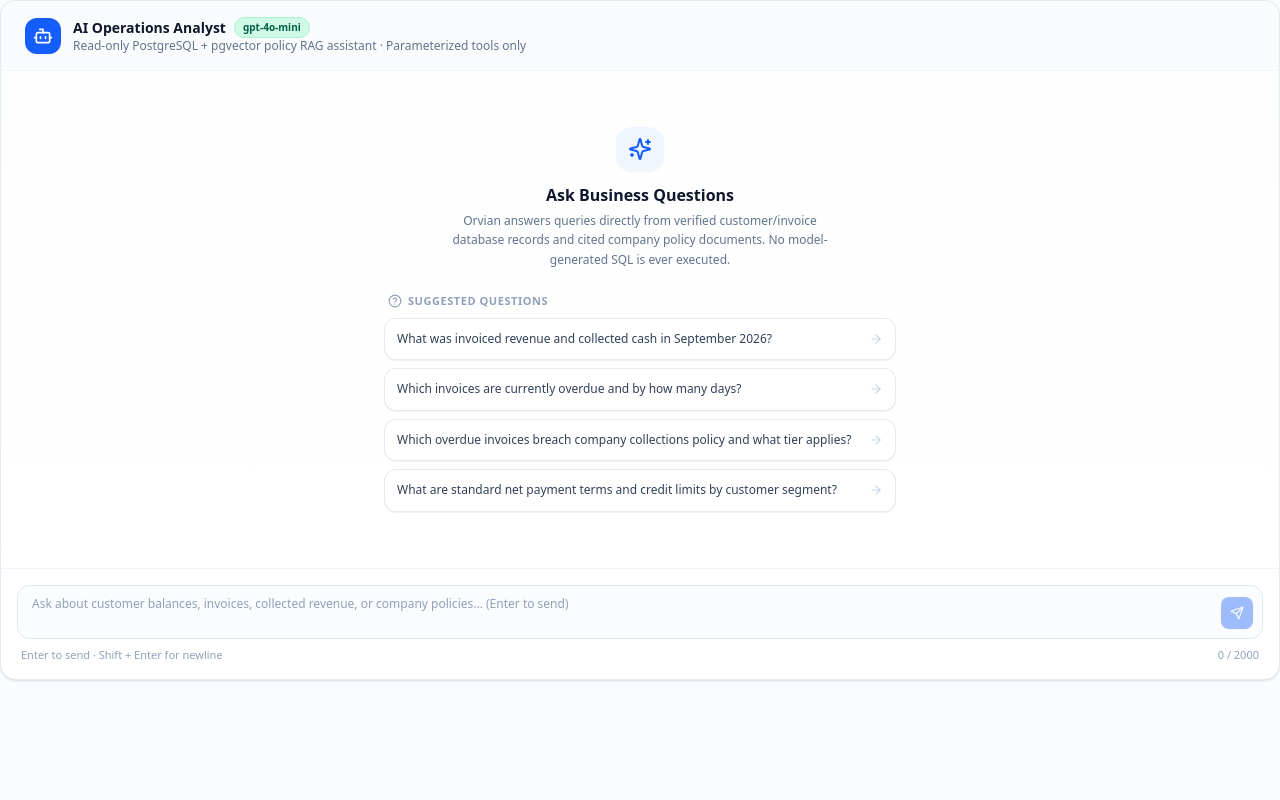
Scenario: ChatCard AI Operations Analyst › handles LLM not configured (503) error and displays helpful error banner
Replace the text in the text box with placeholder "Ask about customer balances" with "How much revenue?": (640, 612) [17, 584, 1263, 638]
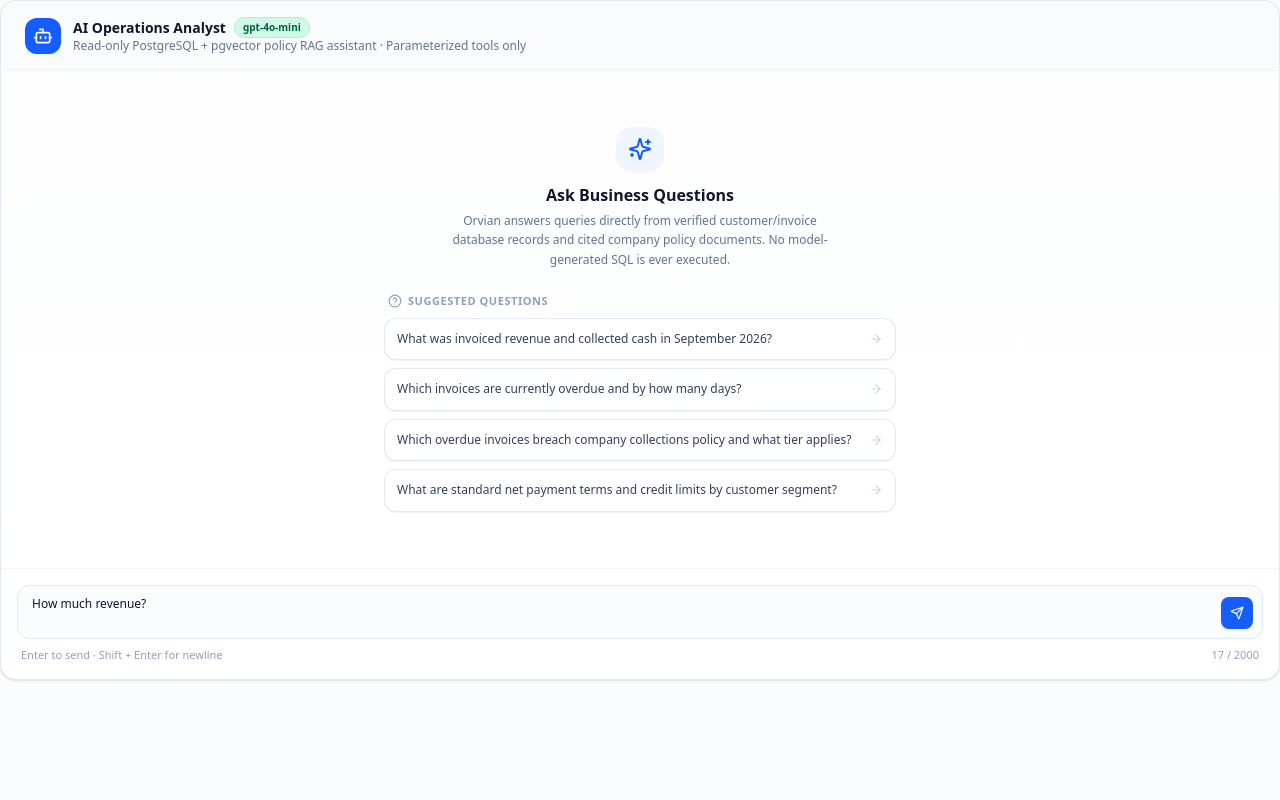
Click the button named "send message": (1237, 612) [1221, 596, 1253, 628]
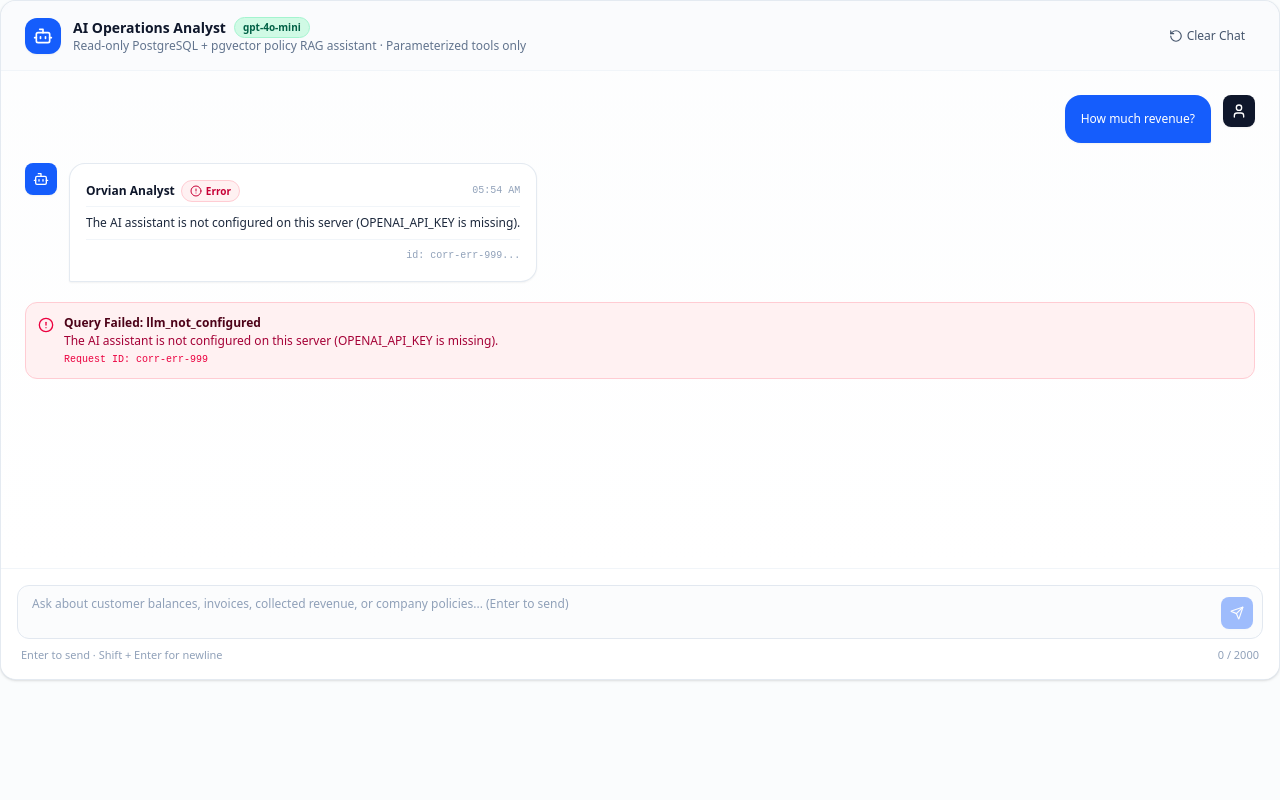
Expected: the text "OPENAI_API_KEY is missing" below "Orvian Analyst" is shown, [86, 214, 520, 231]
Expected: the text "Request ID: corr-err-999" is shown, [64, 354, 208, 364]
